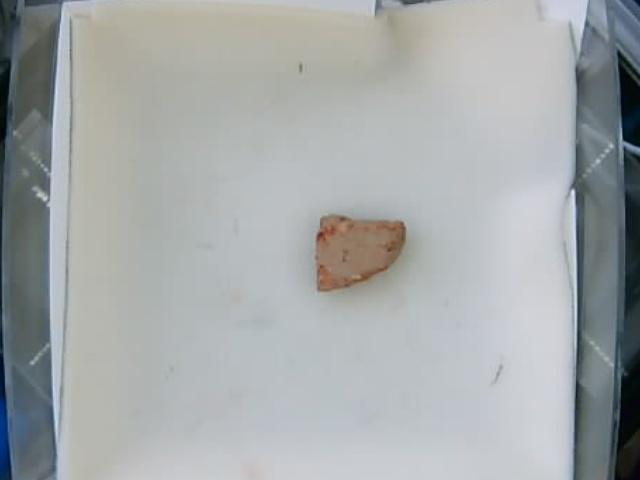Brisk: (317, 216, 407, 292)
